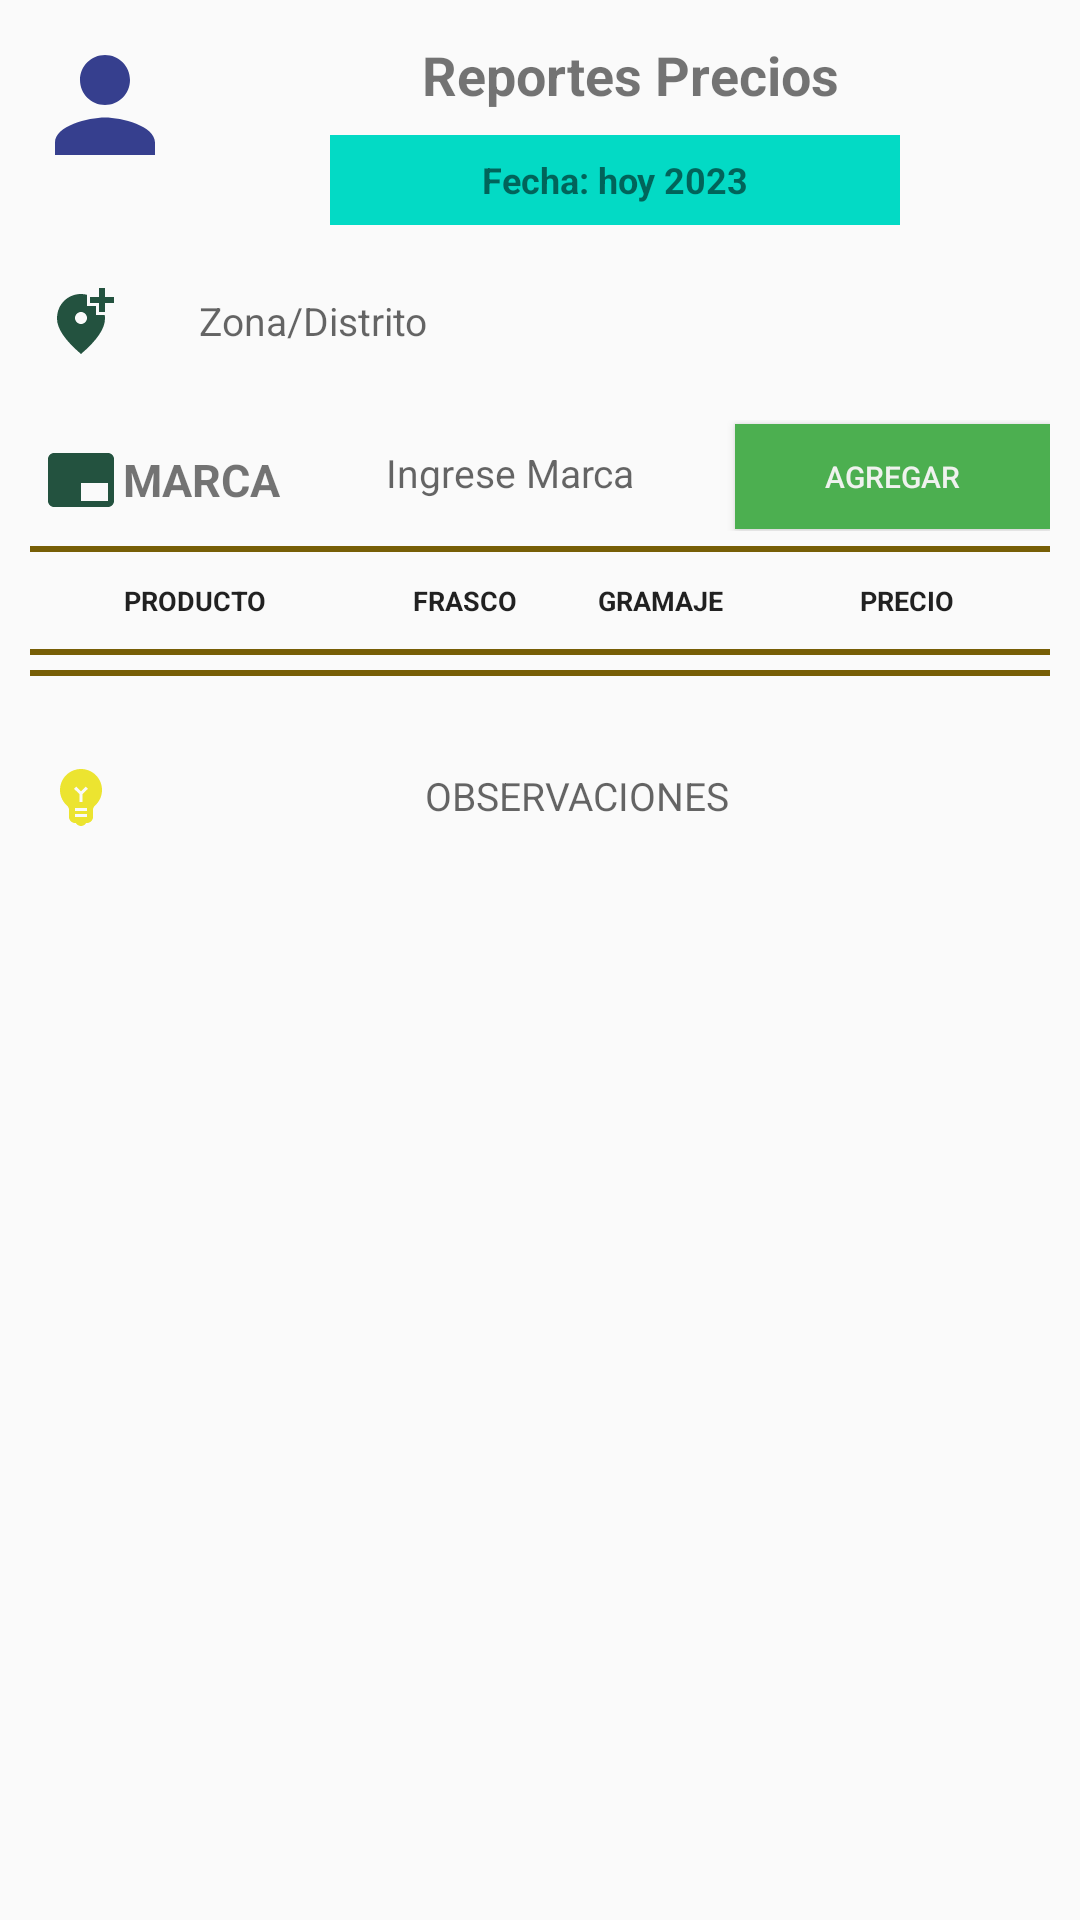

Where to tap for icons on this 1080 x 1920 app screen, as (x=x, y=y):
person: (x=105, y=105)
